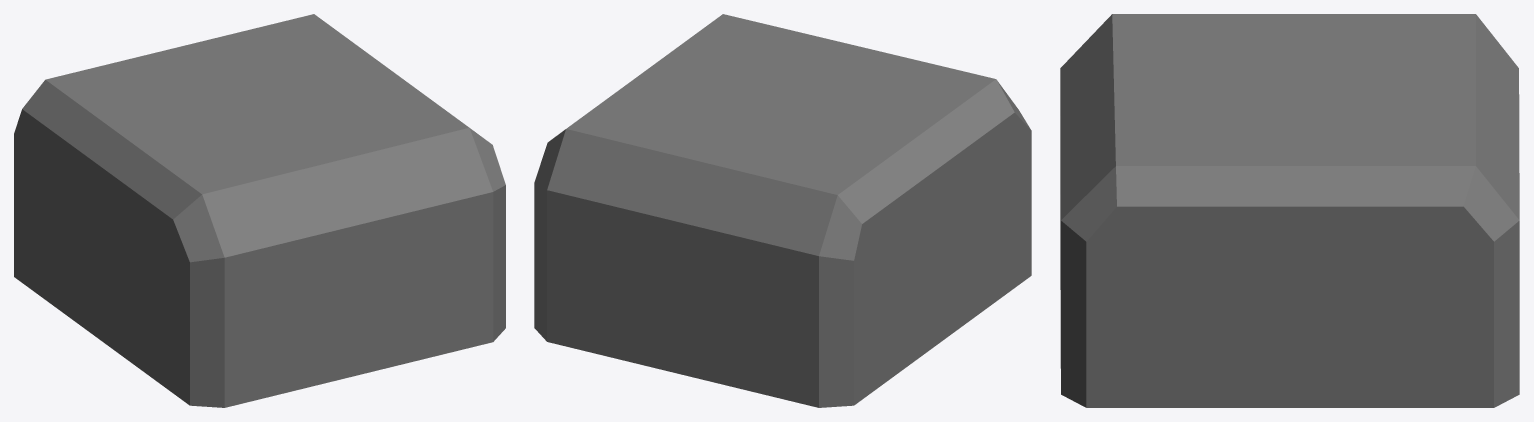
The model's file is SM_Envr_Road_Sidewalk_Edge_02.fbx.
3 renders of one model, left to right at view 1: azimuth 30°, elevation 25°; view 2: azimuth 150°, elevation 25°; view 3: azimuth 270°, elevation 25°, orthographic. The views are drawn at different scales.
Visible parts, largest first — view 1: SM_Envr_Road_Sidewalk_Edge_02; view 2: SM_Envr_Road_Sidewalk_Edge_02; view 3: SM_Envr_Road_Sidewalk_Edge_02.
Boxes of the visible parts, x1=… form: SM_Envr_Road_Sidewalk_Edge_02: x1=14, y1=14, x2=505, y2=407; SM_Envr_Road_Sidewalk_Edge_02: x1=534, y1=14, x2=1031, y2=407; SM_Envr_Road_Sidewalk_Edge_02: x1=1060, y1=14, x2=1519, y2=407.
Bounding box in the file's own units: 40 × 23.82 × 43.41.
